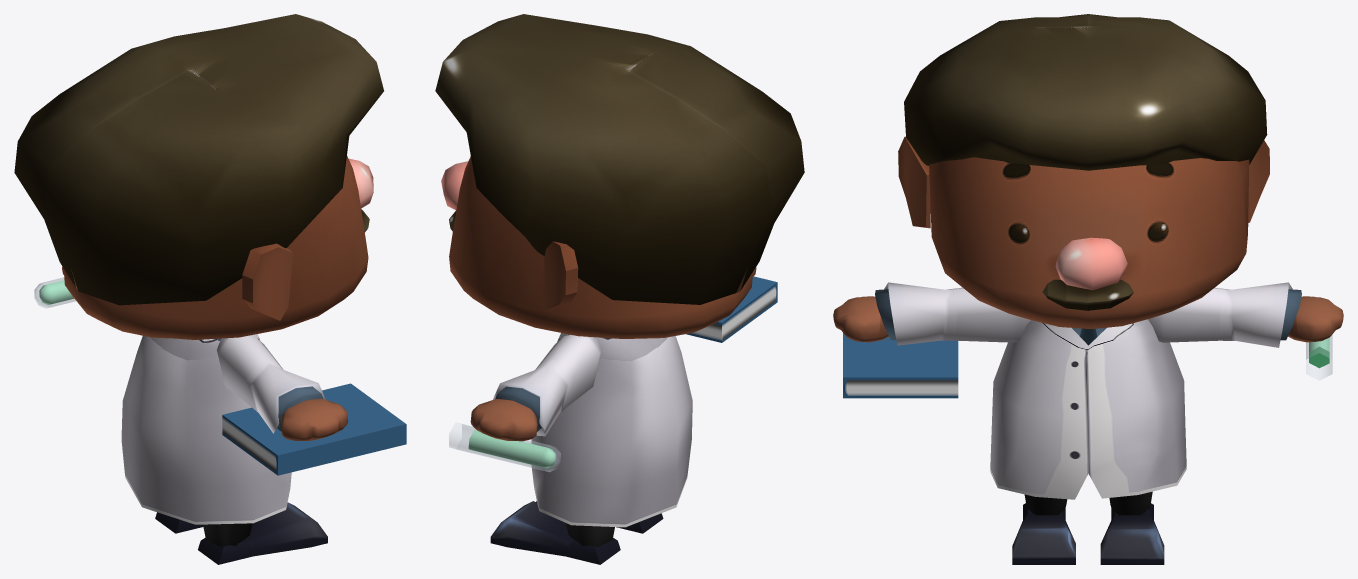
File: Char_Sci_HS_05.fbx
3 views of the same model, side by side, from view 1: azimuth 30°, elevation 25°; view 2: azimuth 150°, elevation 25°; view 3: azimuth 270°, elevation 25° (orthographic). The views are drawn at different scales.
Visible parts, largest first — view 1: Hair_MOHS, Shirt_MOHS, Head_MOHS, Book_MOHS, R_Arm_MOHS, R_Leg_MOHS, R_Ear_MOHS, Test_Tube_MOHS, Nose_MOHS; view 2: Hair_MOHS, Shirt_MOHS, Head_MOHS, L_Arm_MOHS, L_Leg_MOHS, Test_Tube_MOHS, Book_MOHS, L_Ear_MOHS, Nose_MOHS; view 3: Hair_MOHS, Head_MOHS, Shirt_MOHS, L_Arm_MOHS, R_Arm_MOHS, Book_MOHS, L_Leg_MOHS, R_Leg_MOHS, Nose_MOHS, R_Ear_MOHS, Mustache_MOHS, L_Ear_MOHS (+1 smaller).
Part boxes in pixels (x1,y1,x2,y2): Hair_MOHS: (14, 14, 383, 305); Shirt_MOHS: (121, 334, 291, 524); Head_MOHS: (63, 156, 368, 339); Book_MOHS: (222, 383, 406, 475); R_Arm_MOHS: (216, 335, 347, 440); R_Leg_MOHS: (198, 502, 327, 564); R_Ear_MOHS: (242, 243, 292, 320); Test_Tube_MOHS: (34, 277, 75, 308); Nose_MOHS: (349, 158, 373, 208); Hair_MOHS: (435, 14, 804, 304); Shirt_MOHS: (531, 333, 692, 527); Head_MOHS: (449, 156, 752, 338); L_Arm_MOHS: (470, 334, 601, 441); L_Leg_MOHS: (490, 501, 620, 564); Test_Tube_MOHS: (449, 422, 560, 472); Book_MOHS: (686, 276, 777, 342); L_Ear_MOHS: (542, 241, 578, 311); Nose_MOHS: (441, 161, 468, 209); Hair_MOHS: (904, 14, 1267, 170); Head_MOHS: (929, 157, 1249, 329); Shirt_MOHS: (990, 319, 1186, 499); L_Arm_MOHS: (1148, 282, 1343, 347); R_Arm_MOHS: (833, 282, 1030, 345); Book_MOHS: (843, 333, 958, 398); L_Leg_MOHS: (1100, 491, 1164, 564); R_Leg_MOHS: (1012, 494, 1075, 564); Nose_MOHS: (1055, 237, 1127, 290); R_Ear_MOHS: (898, 136, 930, 228); Mustache_MOHS: (1042, 279, 1133, 310); L_Ear_MOHS: (1248, 140, 1269, 222).
Bounding box in the file's own units: 5.13 × 7.1 × 6.65.
